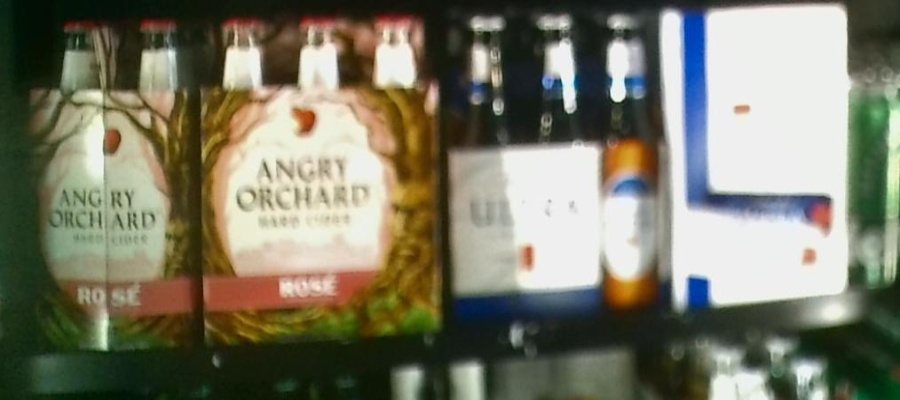bottle: (205, 13, 445, 336), (450, 10, 668, 312), (18, 13, 200, 353), (670, 5, 849, 297)
